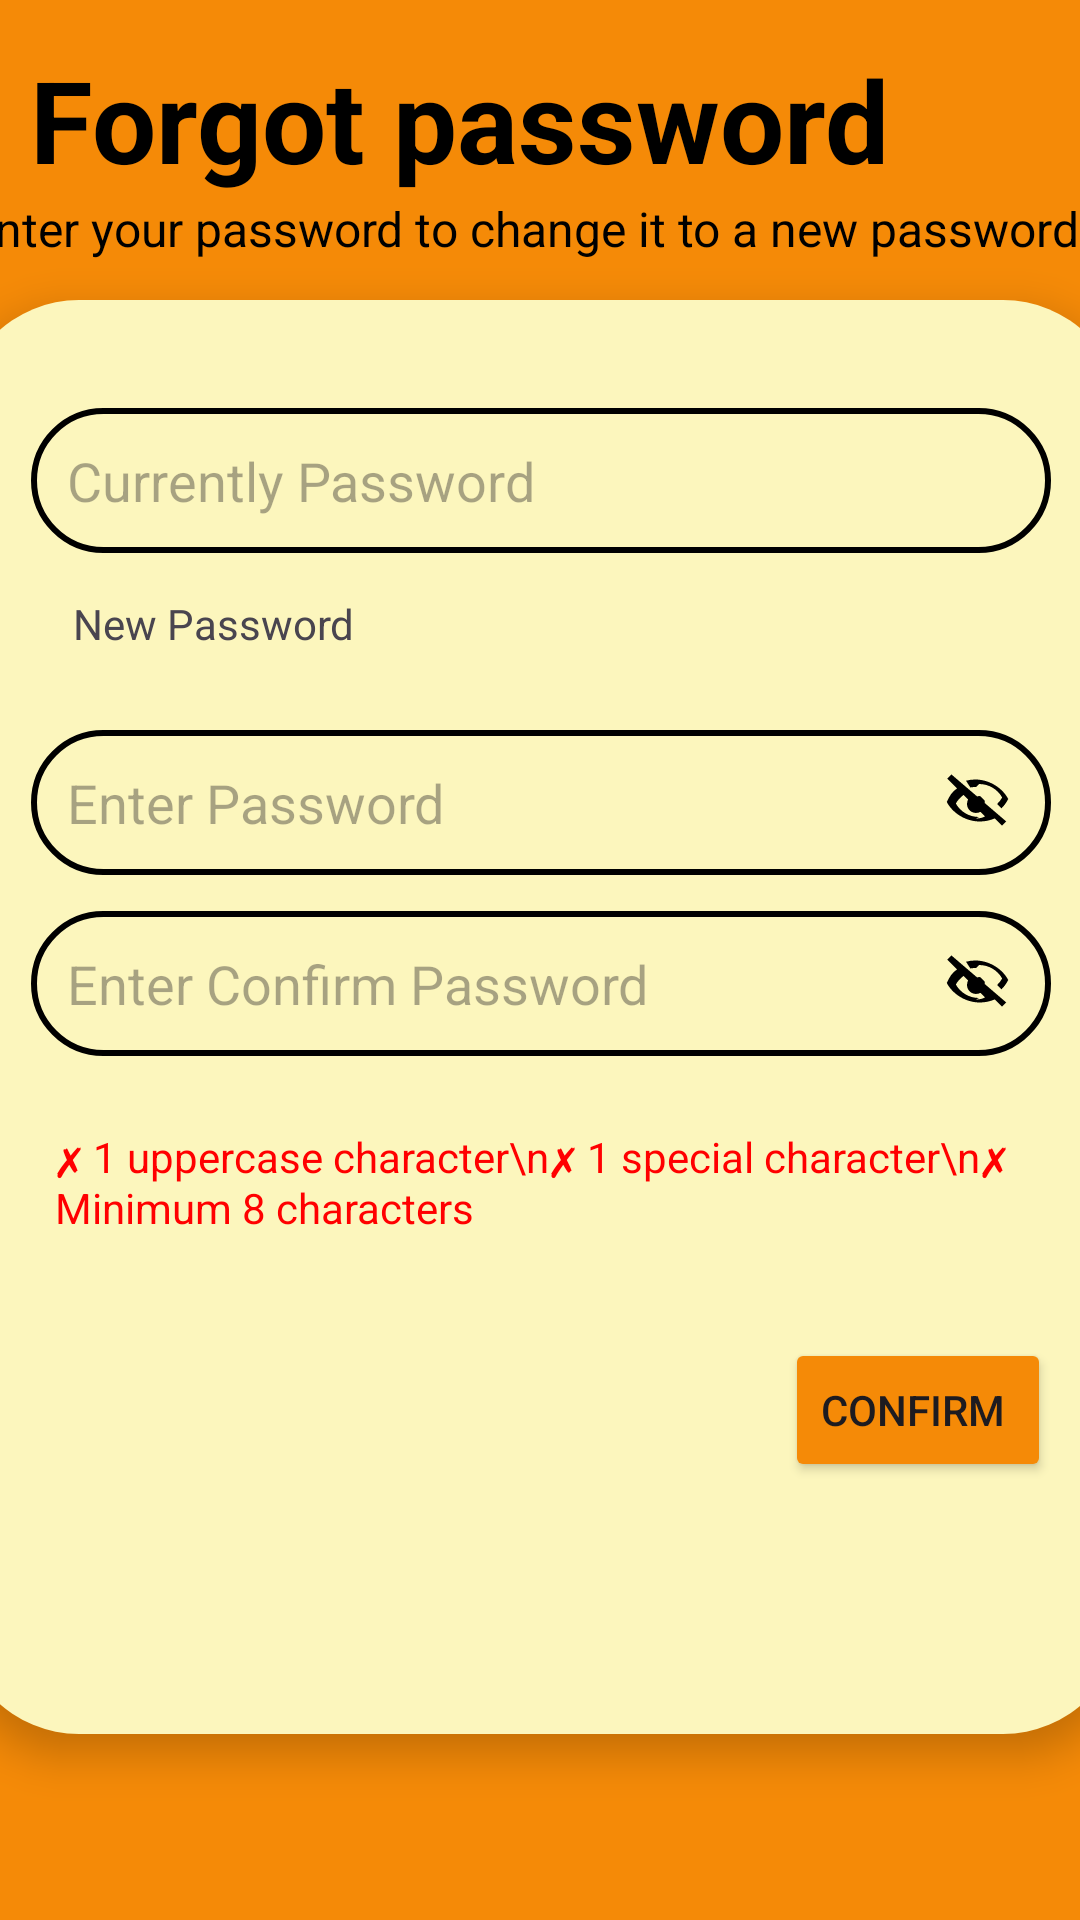

Icon bounding boxes for this 1080px×1920px phone screenshot, format [x1=x1, y1=y1, x2=x2, y2=y2]:
Toggle password visibility: [x1=947, y1=774, x2=1008, y2=826], [x1=947, y1=955, x2=1008, y2=1007]
